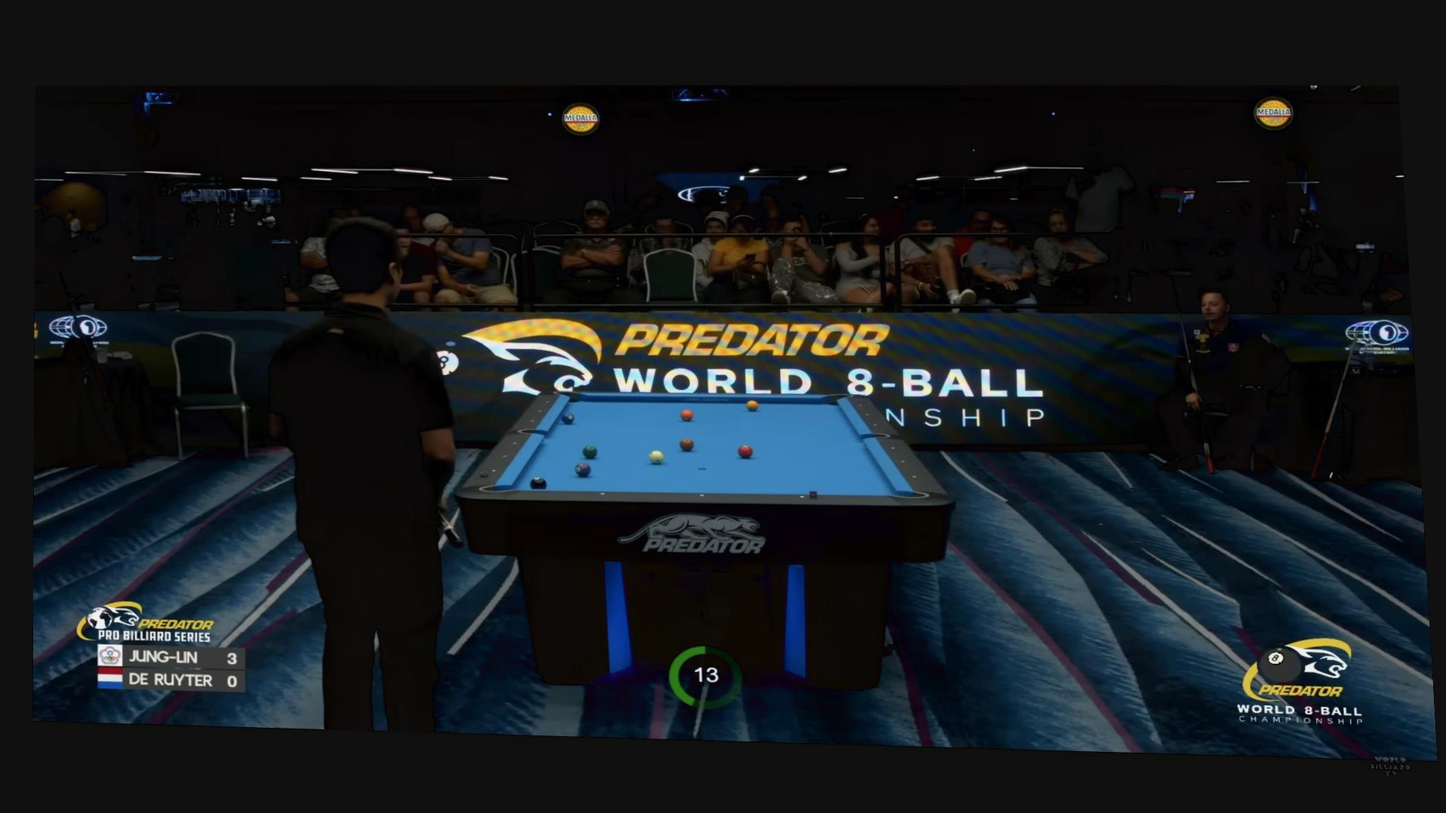Black: (799, 494, 805, 499), (699, 493, 705, 498), (900, 459, 906, 464), (600, 492, 605, 497), (912, 474, 917, 479), (890, 446, 895, 450), (492, 469, 497, 473), (502, 454, 507, 458), (512, 441, 517, 445), (538, 409, 543, 413), (545, 400, 550, 404), (530, 419, 534, 423), (873, 423, 877, 426), (866, 413, 870, 416), (859, 404, 862, 407), (635, 391, 638, 394), (701, 392, 704, 395)
Cue: (574, 462, 591, 477), (582, 444, 598, 459), (737, 445, 753, 459), (679, 437, 694, 451), (561, 412, 574, 424), (746, 400, 758, 412), (681, 409, 693, 421)
Solid: (530, 477, 547, 490)
Stripe: (649, 450, 665, 465)
